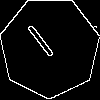I: (24, 22, 63, 67)
